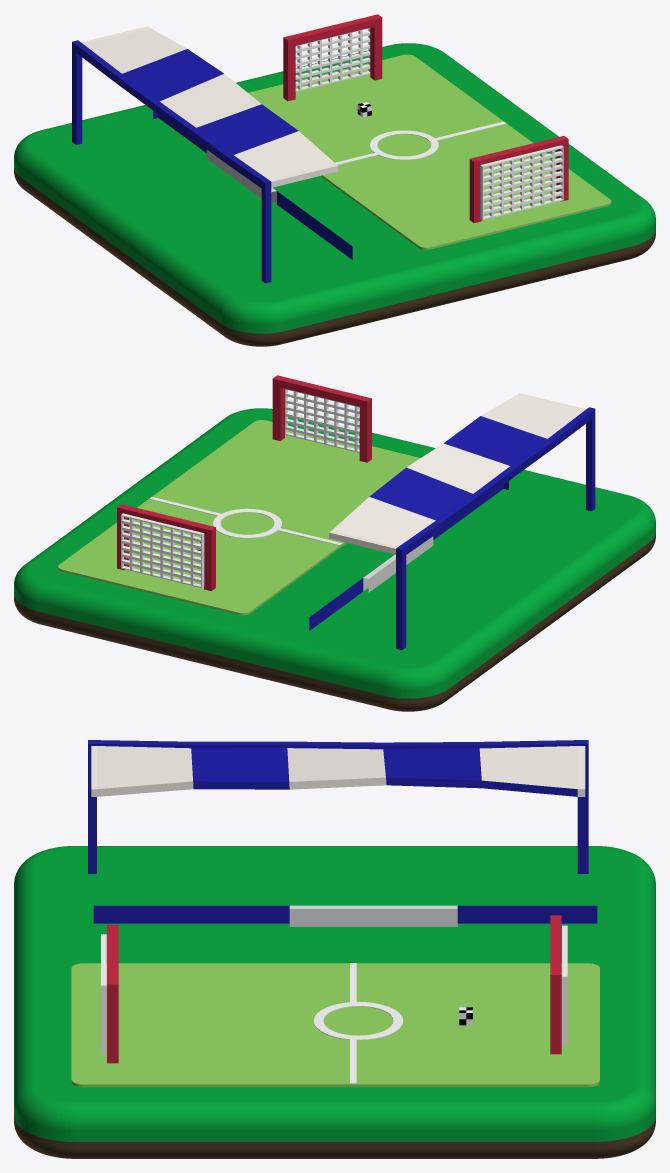
Rendered from IslandCircle1.glb.
The picture shows the model from 3 angles, top to bottom: view 1: azimuth 30°, elevation 25°; view 2: azimuth 150°, elevation 25°; view 3: azimuth 270°, elevation 25°; orthographic projection. The views are drawn at different scales.
Visible parts, largest first — view 1: Island, Football field.001, Tribuns.001, Gates2.001, Gates.001, Shiled.001, FootballDraw.001; view 2: Island, Football field.001, Tribuns.001, Gates.001, Gates2.001, Shiled.001, FootballDraw.001; view 3: Island, Football field.001, Tribuns.001, Shiled.001, Gates.001, Gates2.001, FootballDraw.001.
Part boxes in pixels (bbox=[...]): Island: bbox=[14, 43, 655, 346]; Football field.001: bbox=[248, 54, 611, 249]; Tribuns.001: bbox=[72, 26, 338, 283]; Gates2.001: bbox=[469, 136, 568, 223]; Gates.001: bbox=[283, 14, 382, 101]; Shiled.001: bbox=[153, 111, 352, 259]; FootballDraw.001: bbox=[335, 121, 506, 164]; Island: bbox=[14, 408, 655, 711]; Football field.001: bbox=[58, 420, 420, 615]; Tribuns.001: bbox=[329, 393, 595, 650]; Gates.001: bbox=[117, 504, 215, 591]; Gates2.001: bbox=[272, 375, 371, 462]; Shiled.001: bbox=[309, 481, 508, 630]; FootballDraw.001: bbox=[149, 497, 342, 545]; Island: bbox=[14, 846, 655, 1158]; Football field.001: bbox=[71, 963, 599, 1087]; Tribuns.001: bbox=[88, 740, 588, 873]; Shiled.001: bbox=[93, 905, 597, 926]; Gates.001: bbox=[550, 915, 567, 1054]; Gates2.001: bbox=[101, 924, 118, 1063]; FootballDraw.001: bbox=[313, 963, 403, 1083].
Size of the model in its own units: 6 by 2.01 by 6.
